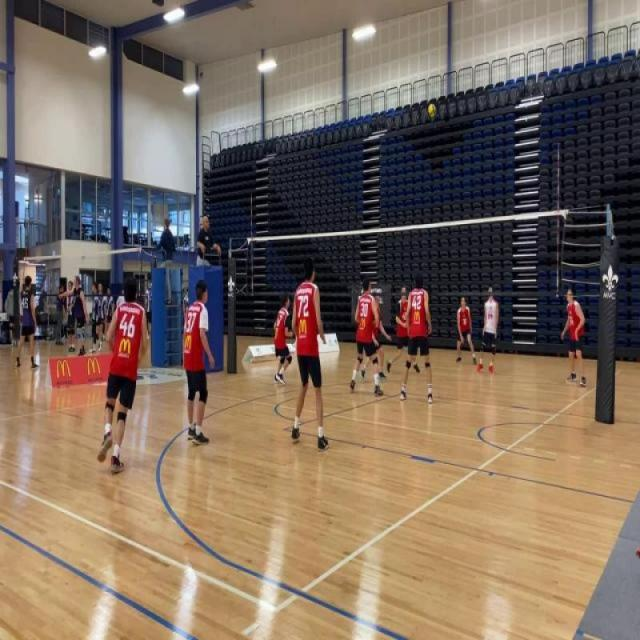volleyball: (426, 100, 439, 121)
